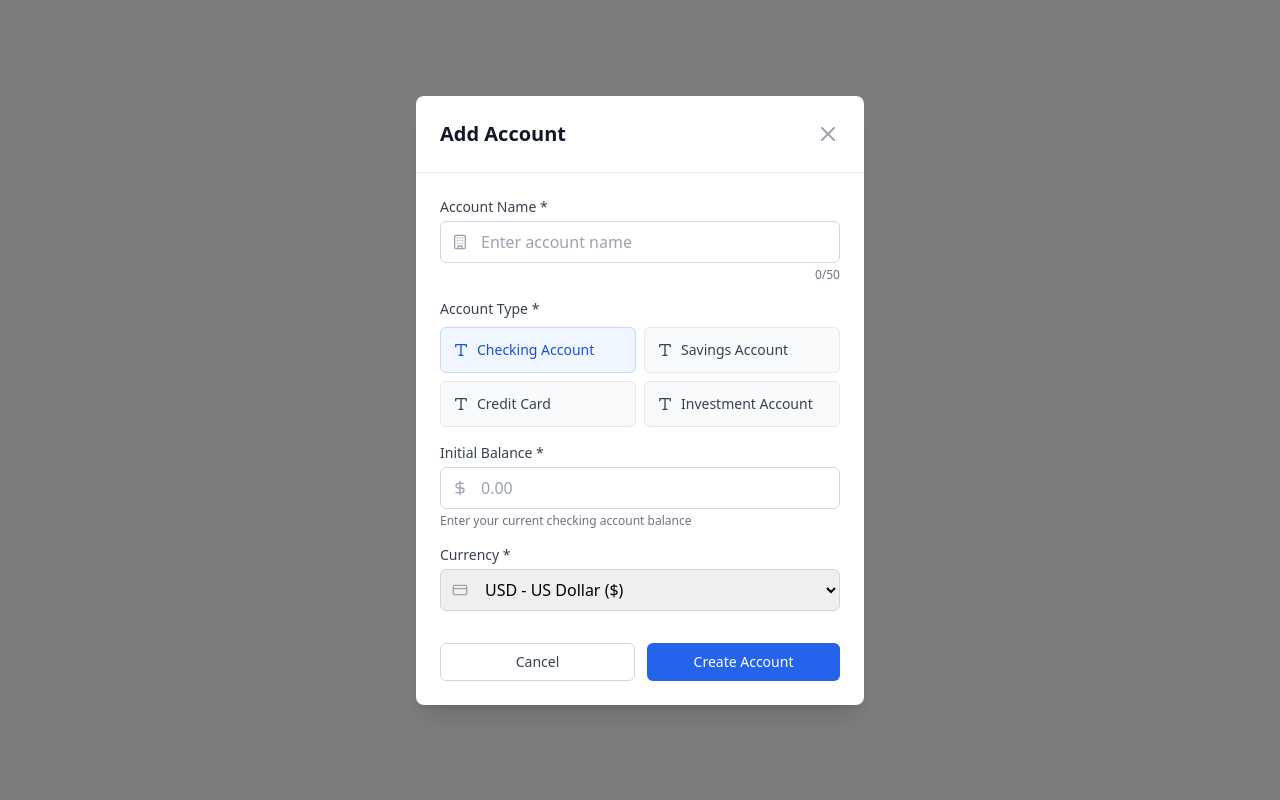
Scenario: AccountForm › Form Validation › should validate credit card should have zero or negative balance
Select credit card type
Click the button "Credit Card".
click(538, 404)  # box [440,380,636,426]
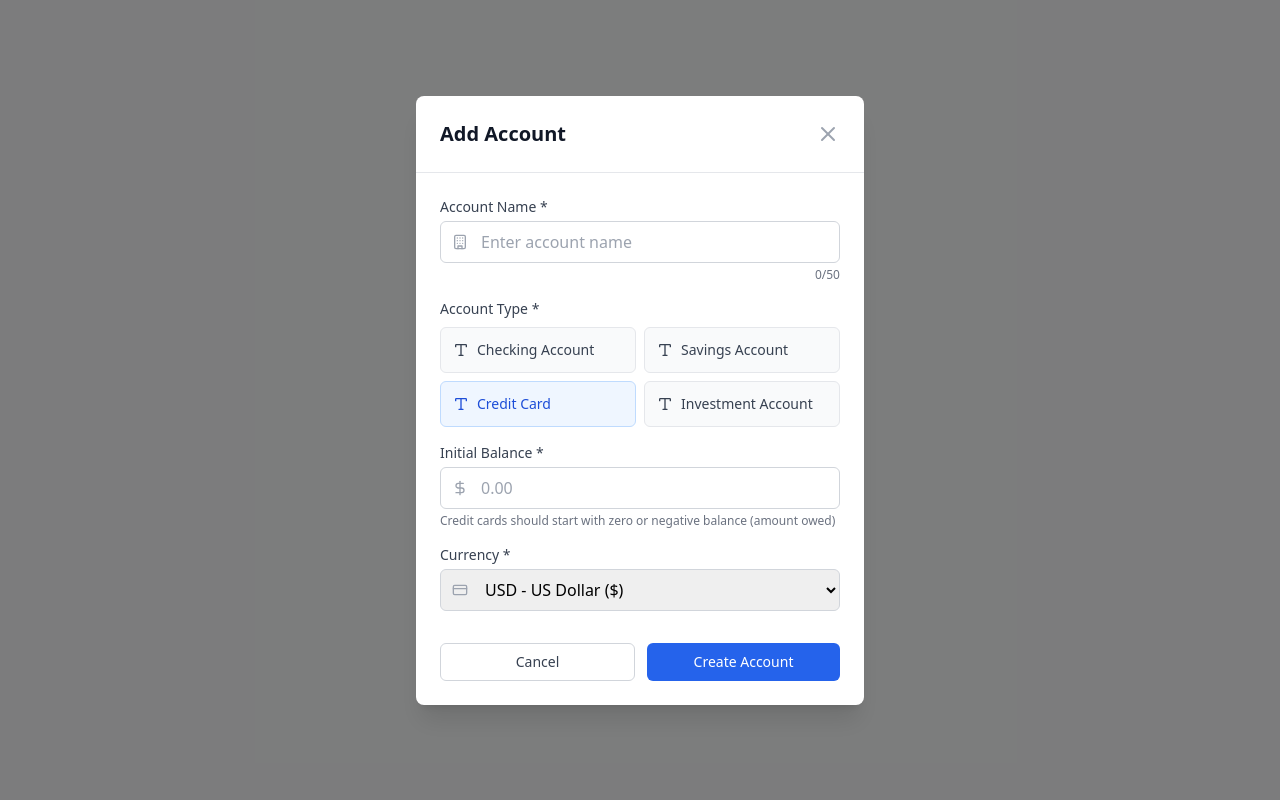
Type "100" into the number field labelled "Initial Balance *".
click(640, 488); type("100")  # box [440,466,840,508]
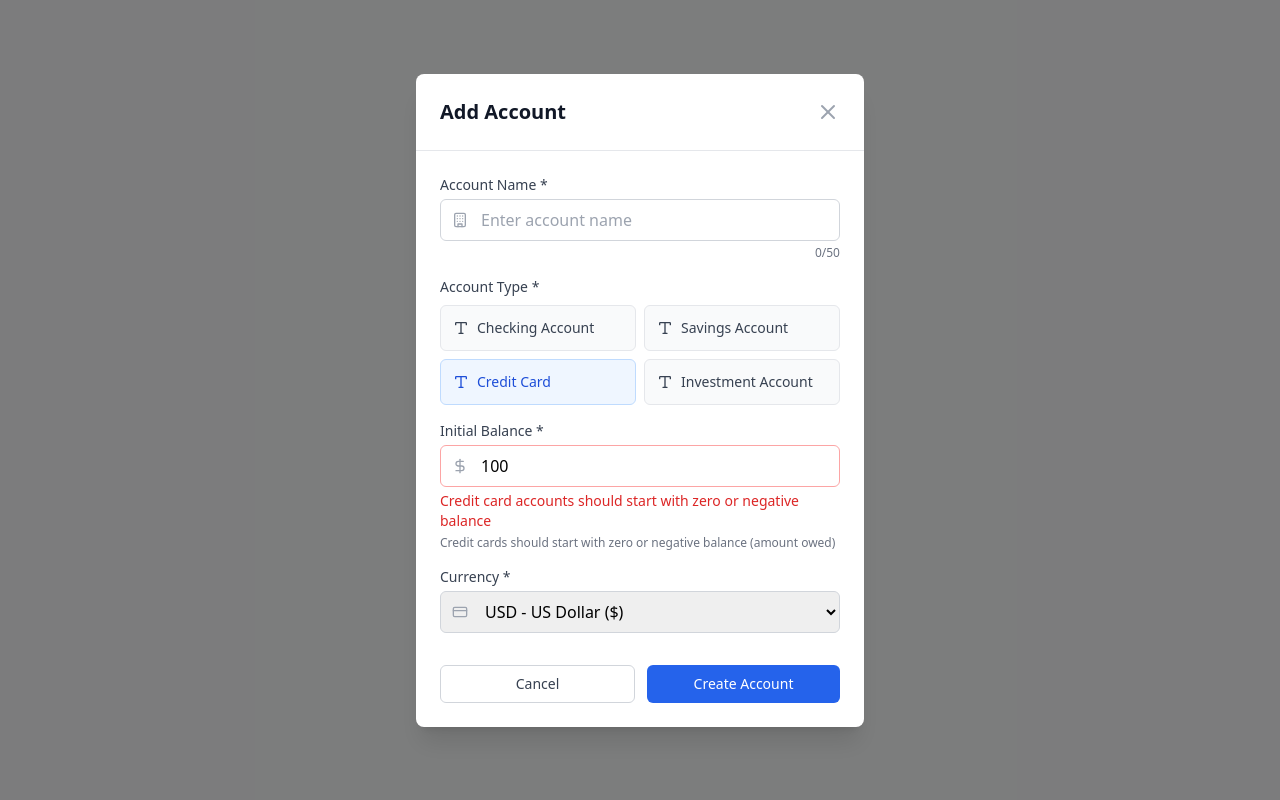
Now the text "Credit card accounts should start with zero or negative balance" is shown, box [440,490,840,530]
